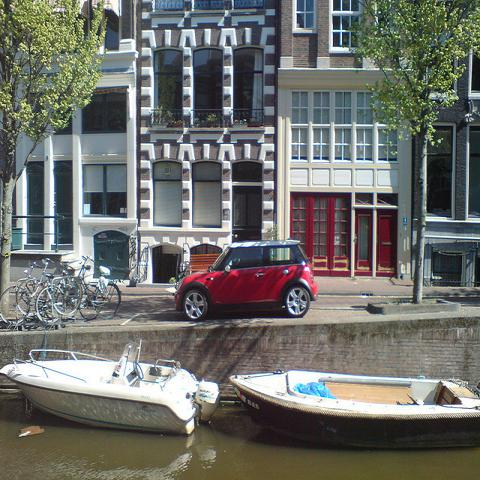car: (174, 240, 319, 319)
